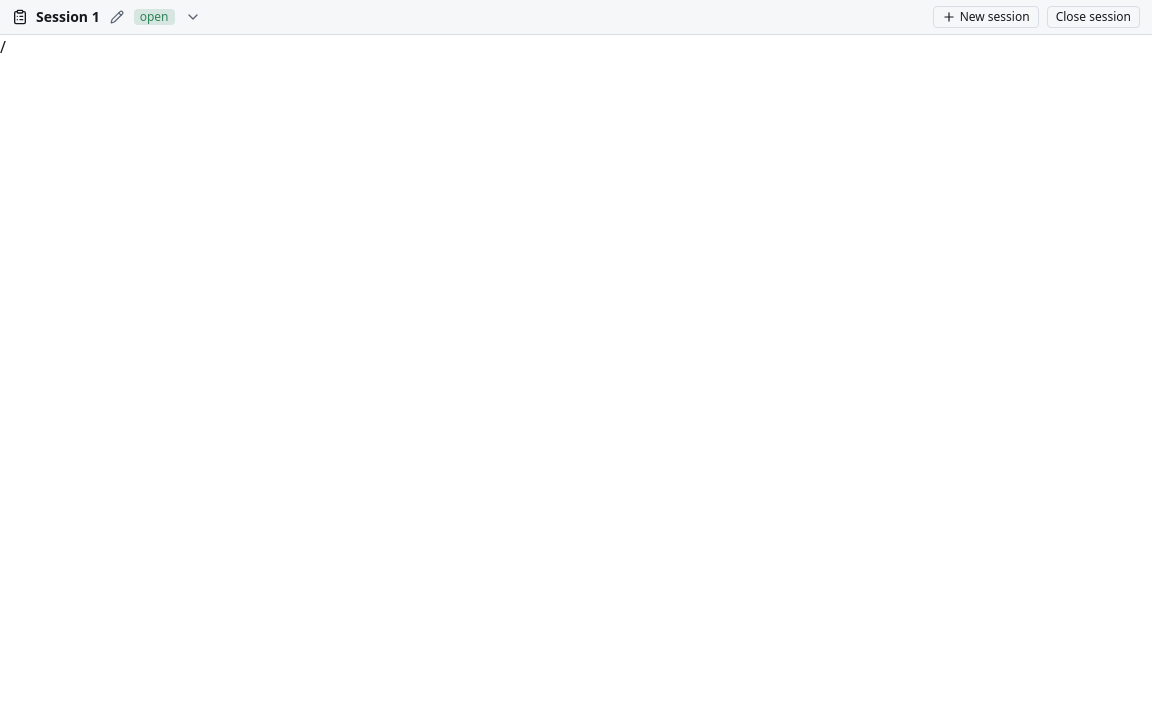
Test case: SessionHeader › ▾ opens the session list; New session opens the dialog
This screenshot has width=1152, height=720.
Step 1. Click the button named "Sessions" → (192,17), box [182, 7, 202, 27]
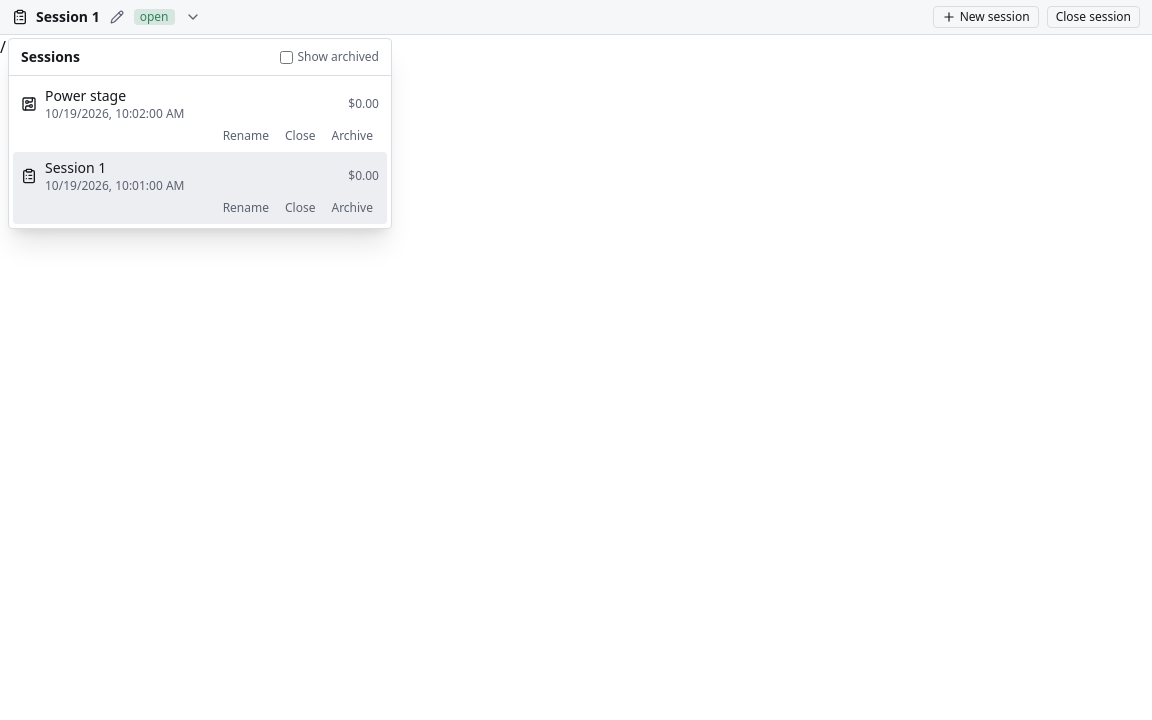
expect the list named "Sessions" is shown: met, box [9, 76, 391, 228]
Step 2. Click the button "New session" → (986,17), box [933, 6, 1039, 28]
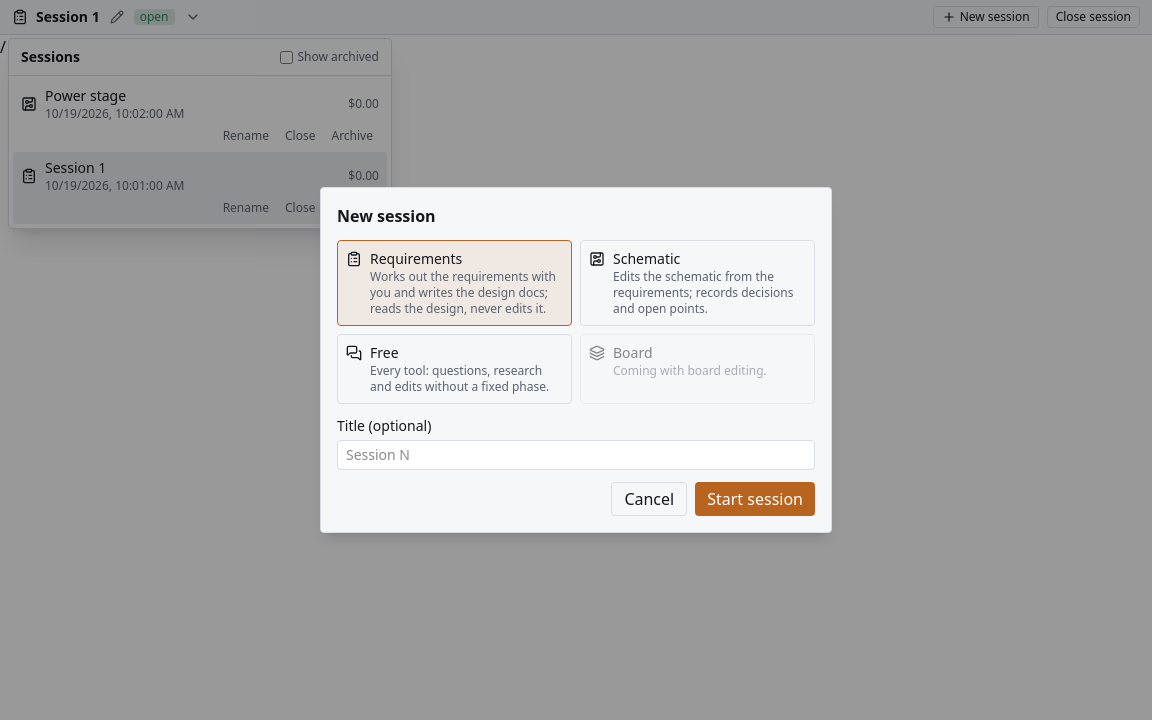
expect the dialog "New session" is shown: met
